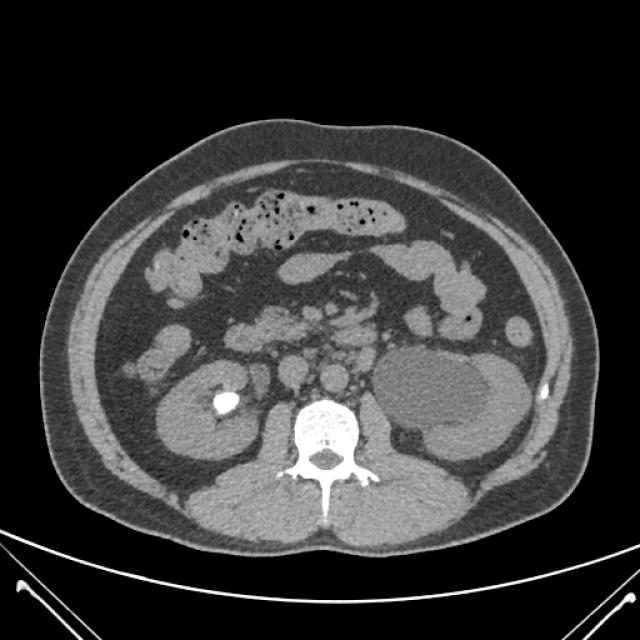kidneystone: (214, 392, 239, 413)
